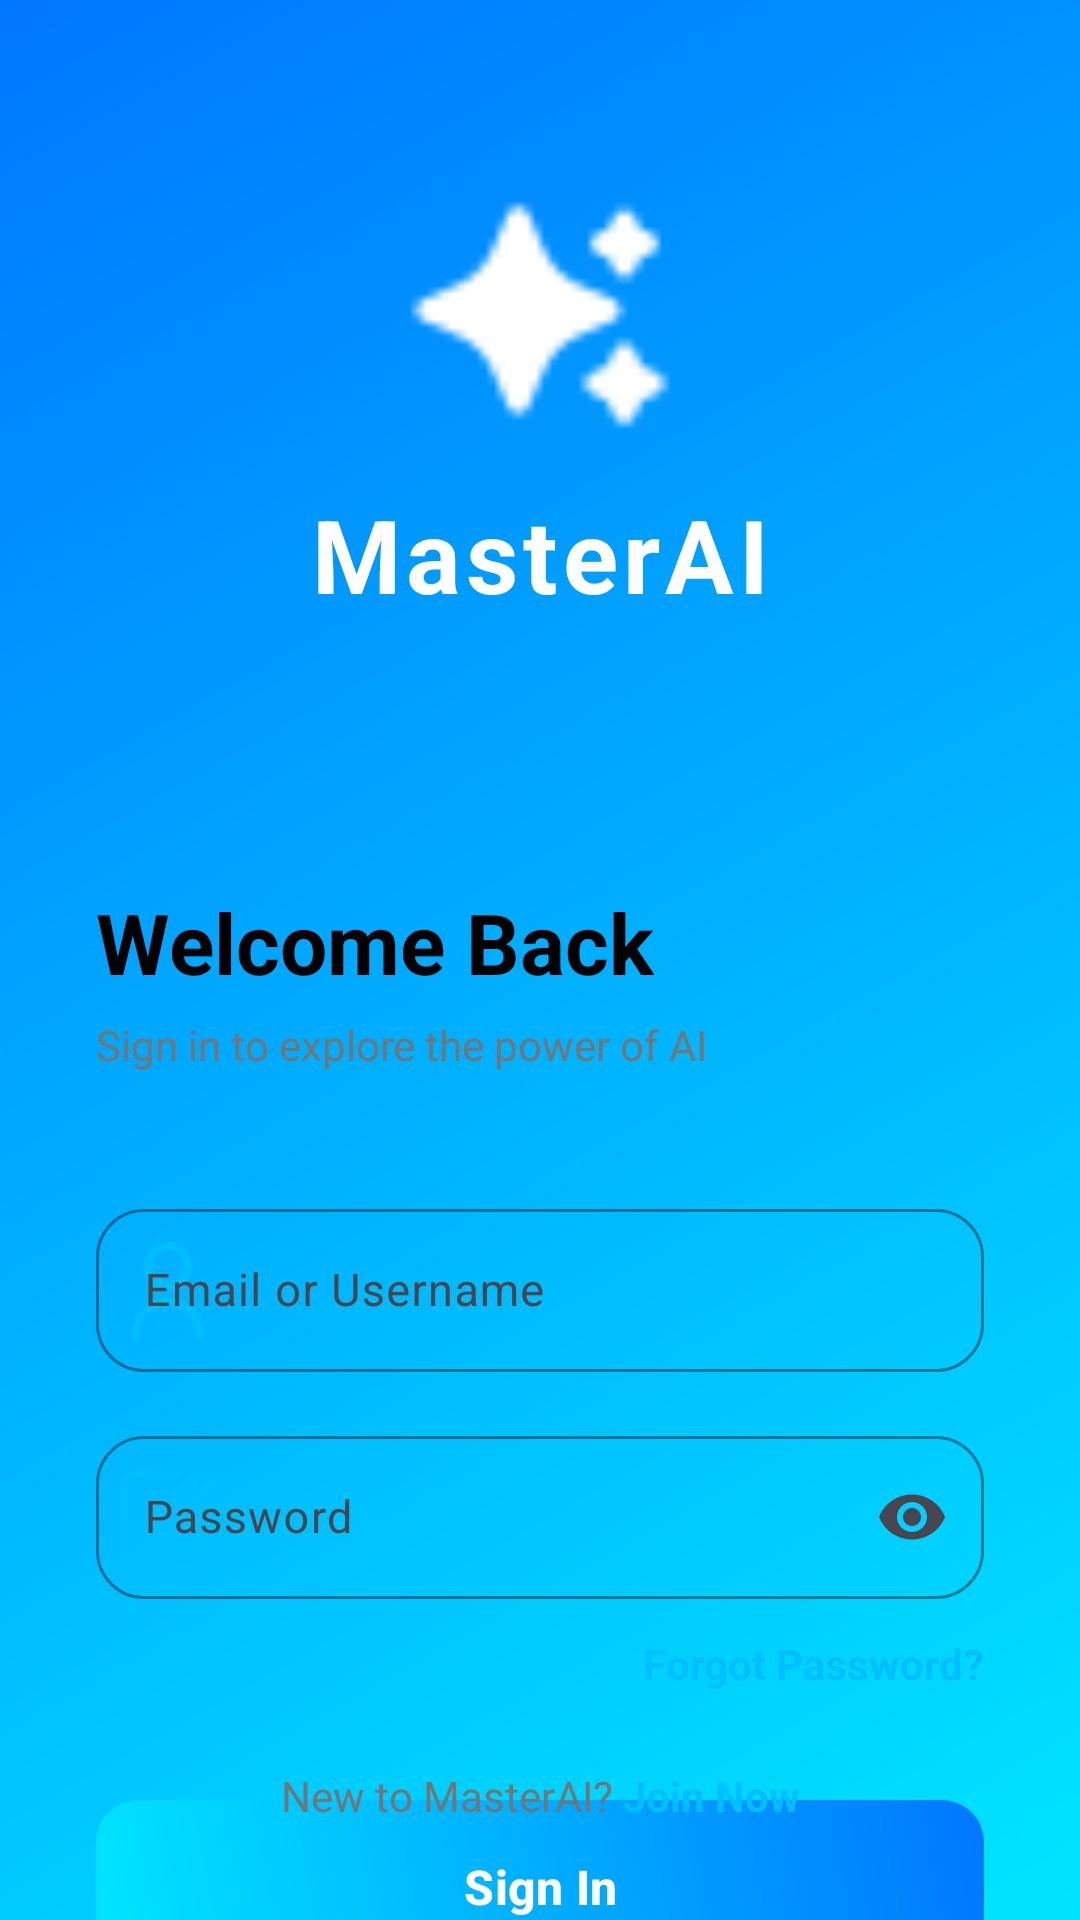

Icon bounding boxes for this 1080px×1920px phone screenshot, format bbox(x1, y1, x2, y2):
generate: bbox(411, 202, 669, 428)
